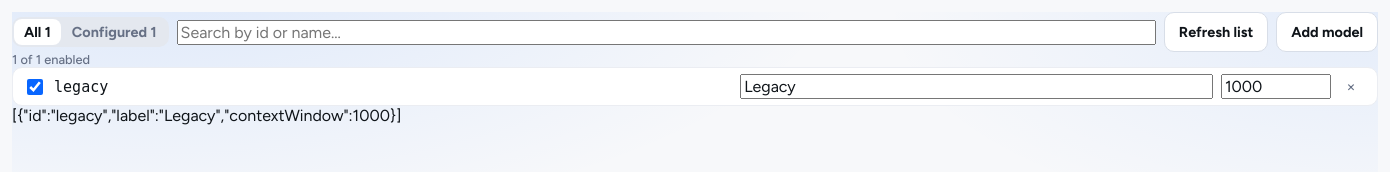
Test: BuiltinModelsEditor › unticking a row keeps its edits but stops offering it
The width and height of the screenshot is (1390, 172).
What coordinates should you click on to do the following:
click the checkbox
I would click on:
 (35, 86)
Its box is [27, 78, 43, 94].
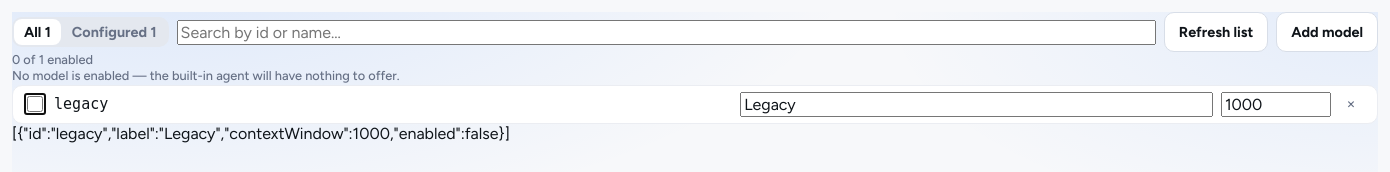
Check: the text "No model is enabled — the built-in agent will have nothing to offer." is shown, box [12, 68, 400, 83]
